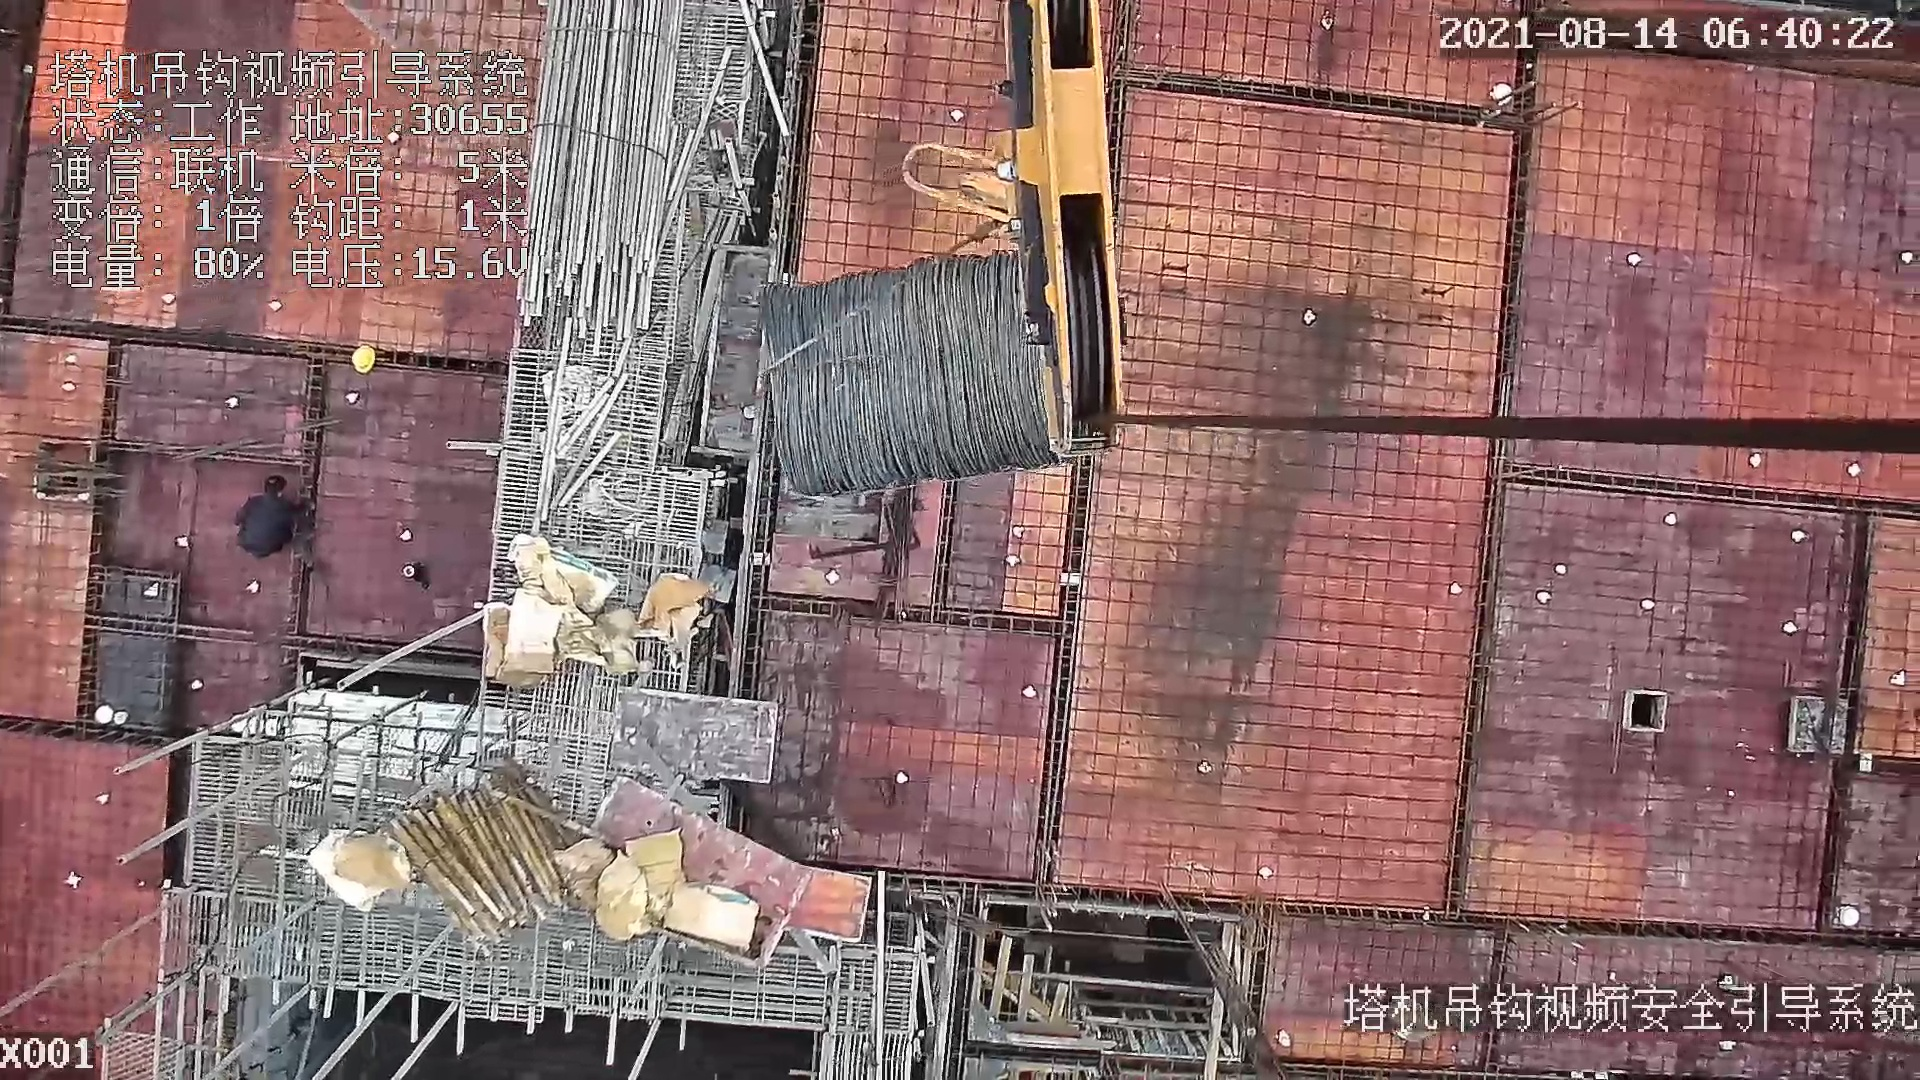helmet: (347, 343, 378, 379)
hook: (900, 1, 1128, 464)
person: (238, 473, 310, 553)
scaffold: (392, 769, 578, 937)
